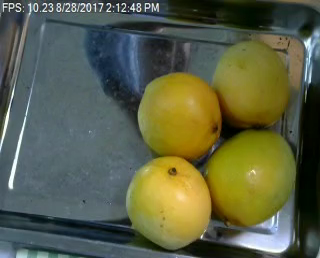Mango: (205, 130, 296, 227), (126, 155, 210, 248), (136, 72, 222, 160), (212, 39, 292, 127)
